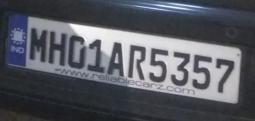0: (68, 33, 88, 69)
1: (87, 37, 106, 76)
3: (171, 48, 190, 89)
5: (193, 52, 214, 92), (150, 44, 168, 83)
7: (215, 56, 237, 95)
A: (107, 40, 126, 78)
H: (49, 29, 66, 66)
M: (27, 25, 47, 64)
R: (126, 40, 146, 82)
